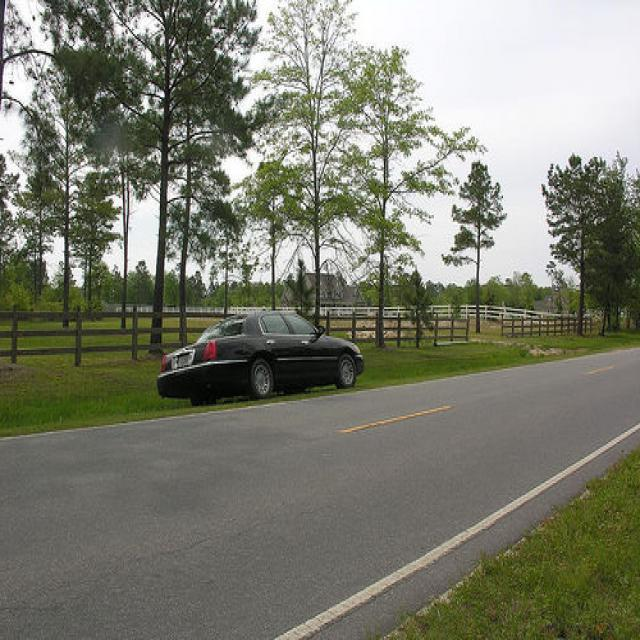Car: (156, 306, 363, 412)
